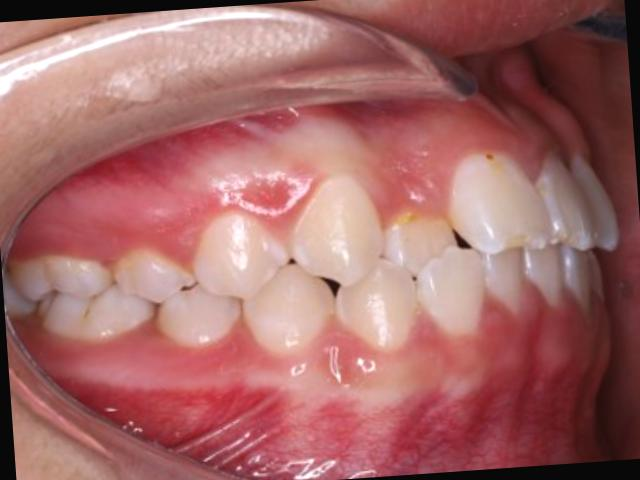canine class II 1/4: (234, 164, 420, 369)
molar class I: (3, 244, 160, 356)
